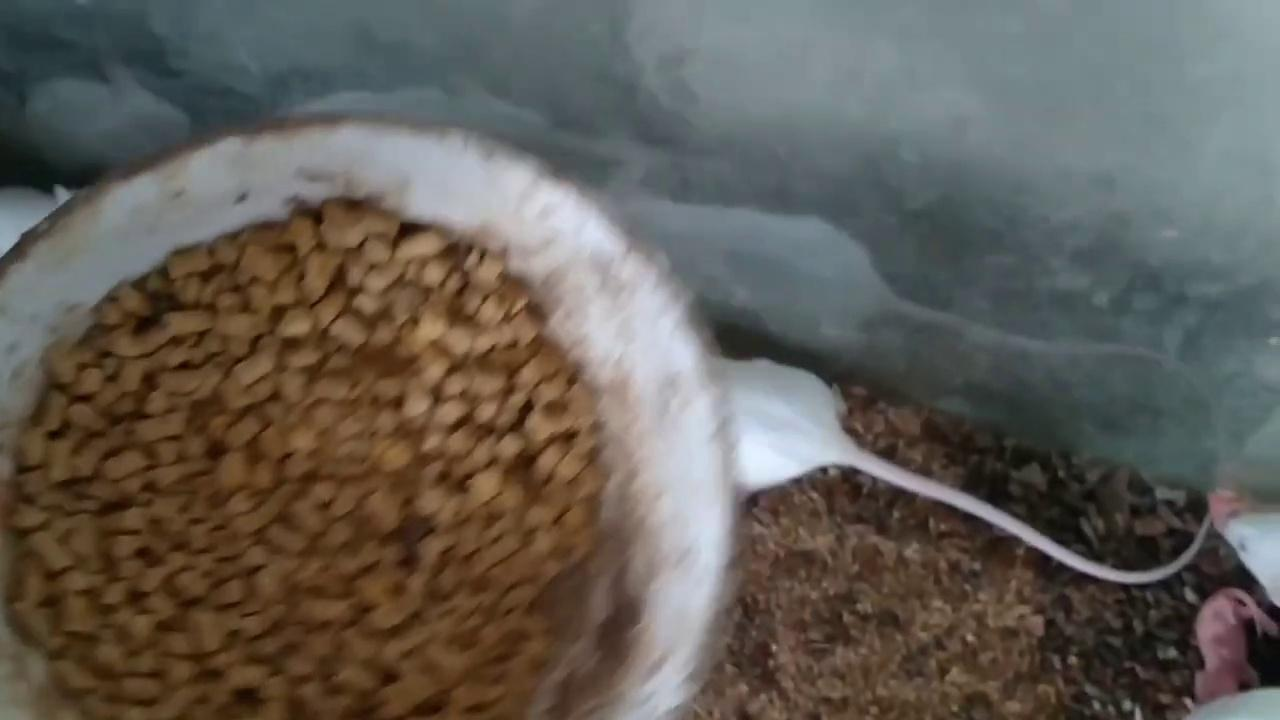rat: (585, 187, 895, 356), (667, 340, 876, 493)
